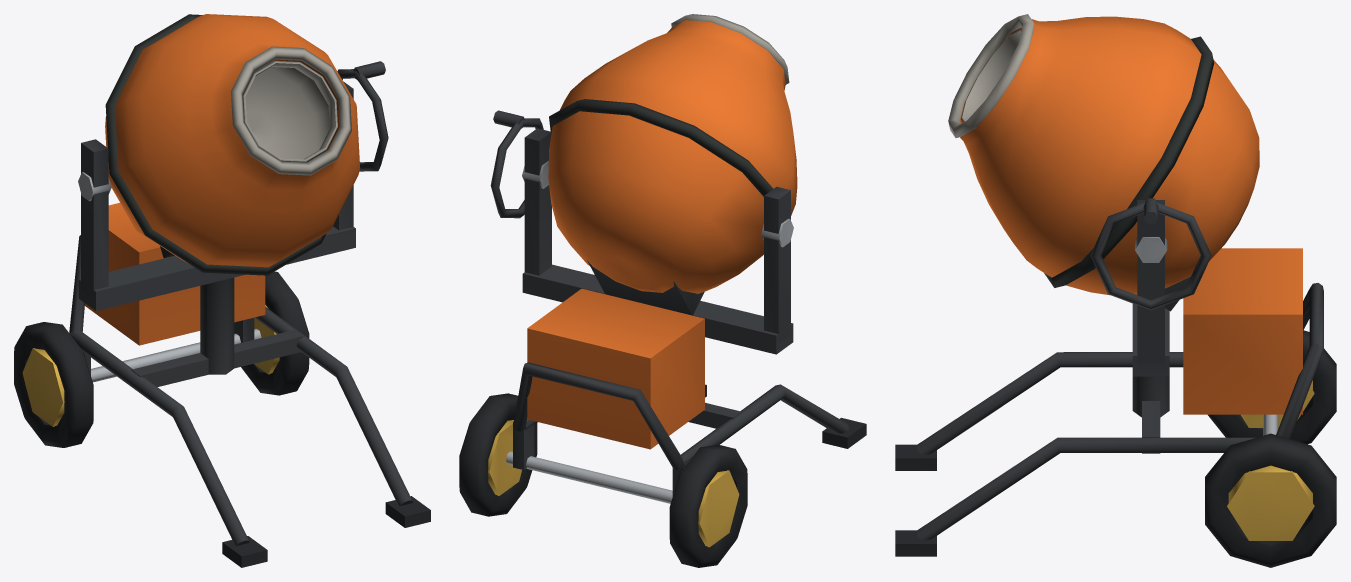
File: cementMixer.far.glb
3 views of the same model, side by side, from view 1: azimuth 30°, elevation 25°; view 2: azimuth 150°, elevation 25°; view 3: azimuth 270°, elevation 25° (orthographic). The views are drawn at different scales.
Parts seen in each view (by area): view 1: cementMixer_far; view 2: cementMixer_far; view 3: cementMixer_far.
Boxes of the visible parts, x1,y1,x2,y2 form: cementMixer_far: [14, 14, 430, 567]; cementMixer_far: [459, 14, 866, 567]; cementMixer_far: [895, 14, 1336, 567].
Bounding box in the file's own units: 0.8 × 1.16 × 0.9577.
